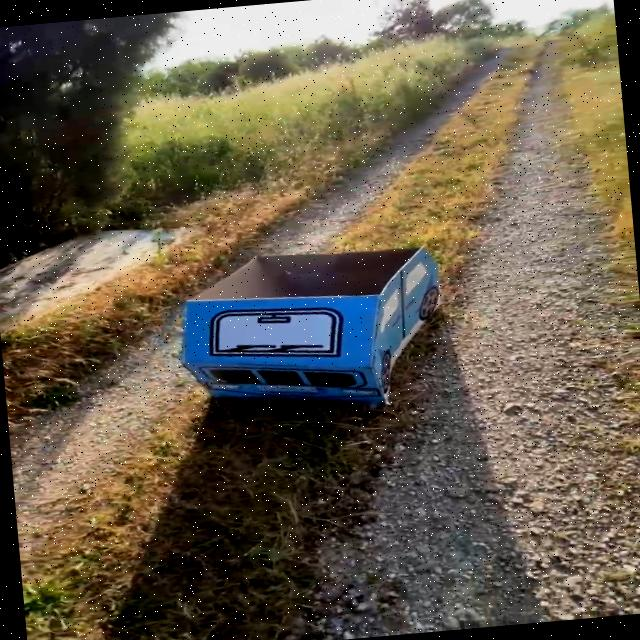blue_car: (123, 206, 558, 443)
